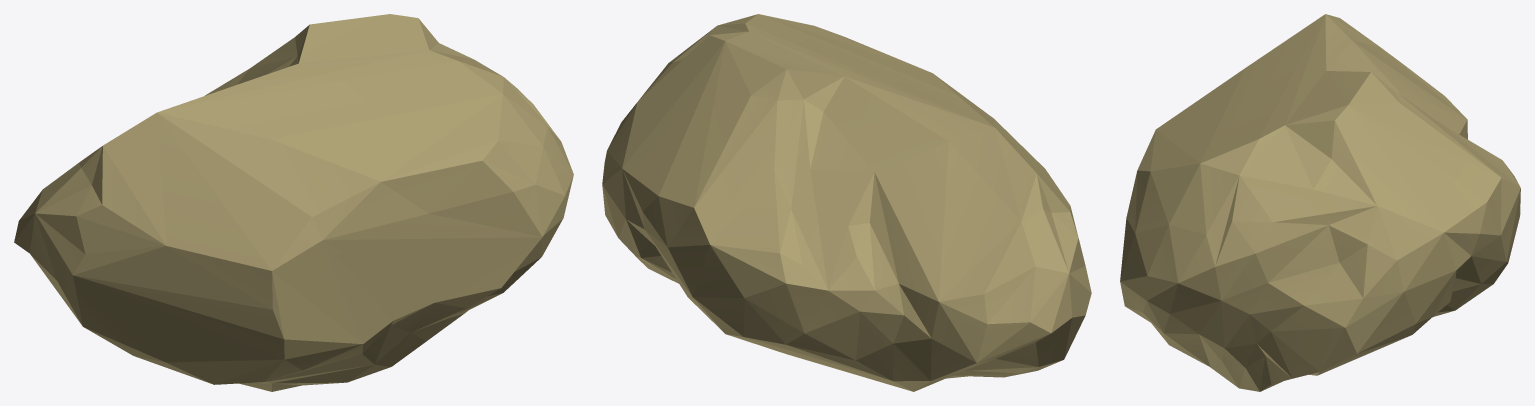
File: SM_rock_70.fbx
The picture shows the model from 3 angles, left to right: view 1: azimuth 30°, elevation 25°; view 2: azimuth 150°, elevation 25°; view 3: azimuth 270°, elevation 25°; orthographic projection. The views are drawn at different scales.
Parts seen in each view (by area): view 1: rock_70; view 2: rock_70; view 3: rock_70.
Part boxes in pixels (x1=…): rock_70: x1=14, y1=14, x2=573, y2=391; rock_70: x1=602, y1=14, x2=1091, y2=391; rock_70: x1=1120, y1=14, x2=1520, y2=391.
Bounding box in the file's own units: 205 × 128 × 150.
